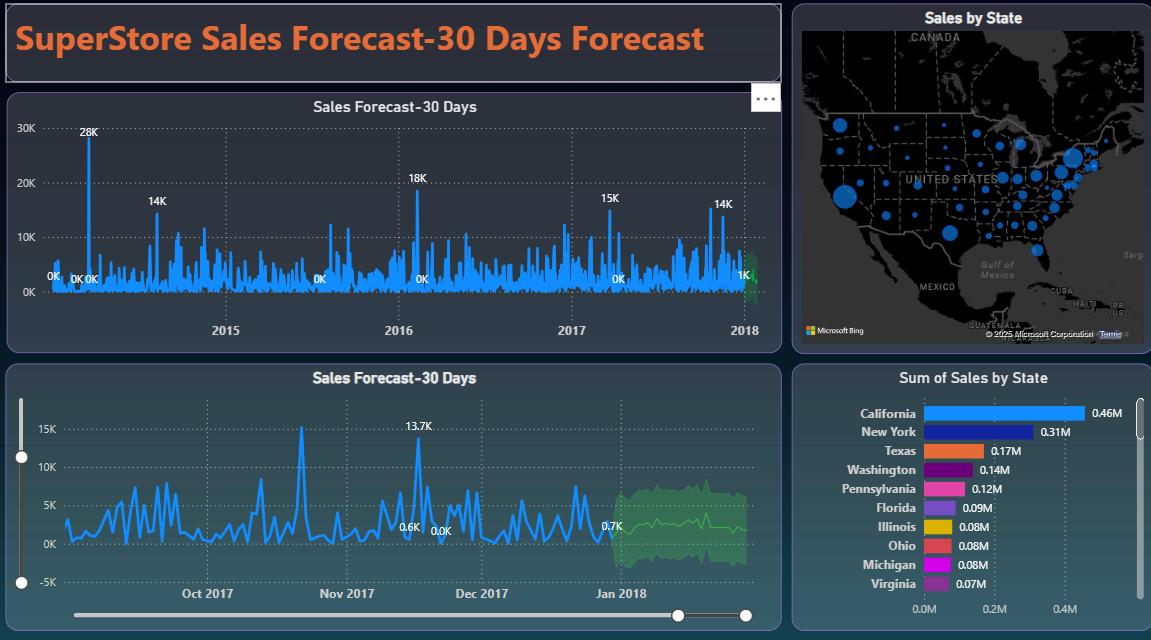

What the dashboard file says about the page in this screenshot:
{"tool":"powerbi","page":{"name":"Page 2","canvas":[1280,720],"ordinal":1},"visuals":[{"type":"lineChart","title":"Sales Forecast-30 Days","fields":{"Y":["Sum(Sample - Superstore.Sales)"],"Category":["Sample - Superstore.Order Date"]},"box":[18.5,409.1,852.4,293.6],"z":0},{"type":"lineChart","title":"Sales Forecast-30 Days","fields":{"Y":["Sum(Sample - Superstore.Sales)"],"Category":["Sample - Superstore.Order Date"]},"box":[20,111.2,851,286.5],"z":1000},{"type":"textbox","box":[19.2,13.7,852.1,86.4],"z":2000},{"type":"map","title":" Sales by State","fields":{"Category":["Sample - Superstore.State"],"Size":["Sum(Sample - Superstore.Sales)"]},"box":[882.3,14.3,397.7,384.9],"z":3000},{"type":"clusteredBarChart","fields":{"Category":["Sample - Superstore.State"],"Y":["Sum(Sample - Superstore.Sales)"]},"box":[882.3,409.1,397.7,293.6],"z":4000}]}

Visuals, with their boxes in screenshot pixels (x1, y1, x2, y2), scaled from the page's 1280x720 canvas onto the 1151x640 screenshot:
"Sales Forecast-30 Days" lineChart: [x1=17, y1=364, x2=783, y2=625]
"Sales Forecast-30 Days" lineChart: [x1=18, y1=99, x2=783, y2=354]
textbox: [x1=17, y1=12, x2=783, y2=89]
" Sales by State" map: [x1=793, y1=13, x2=1150, y2=355]
clusteredBarChart - Sample - Superstore.State x Sum(Sample - Superstore.Sales): [x1=793, y1=364, x2=1150, y2=625]
